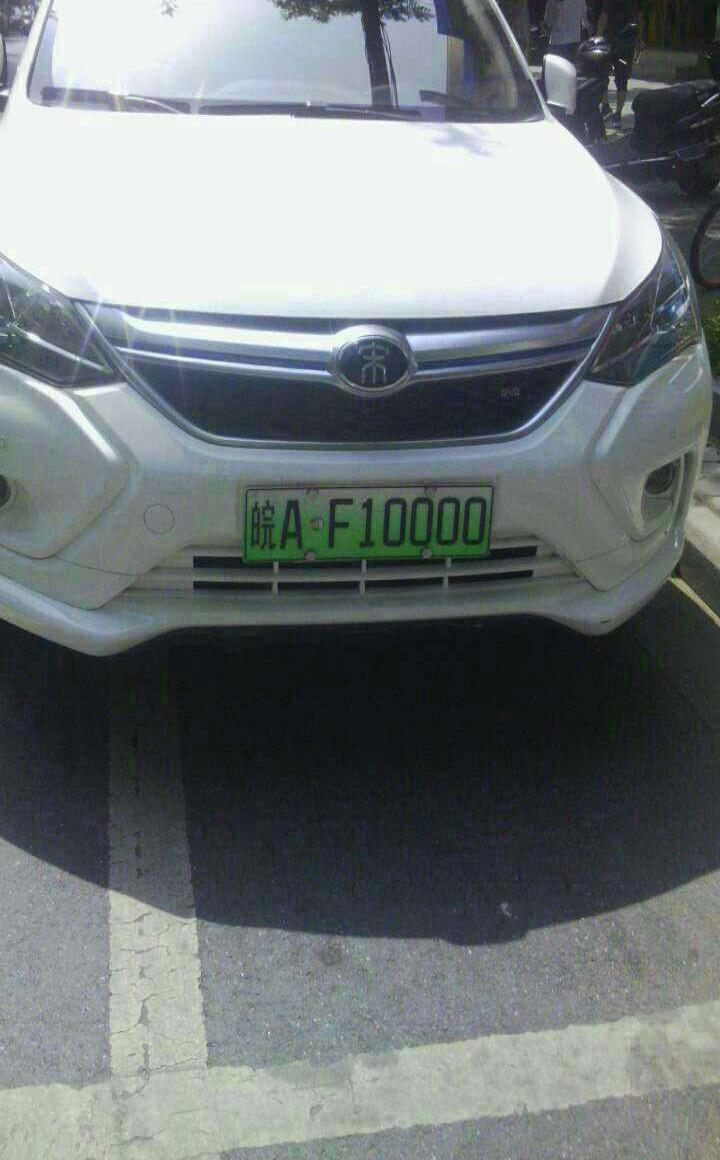car_id: (245, 484, 497, 560)
